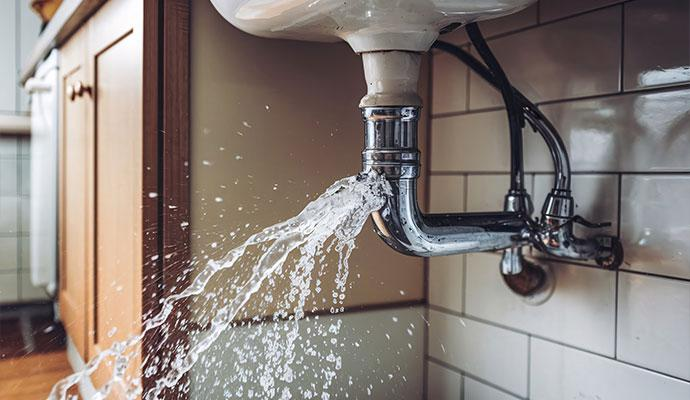pipe burst: (42, 166, 398, 400)
